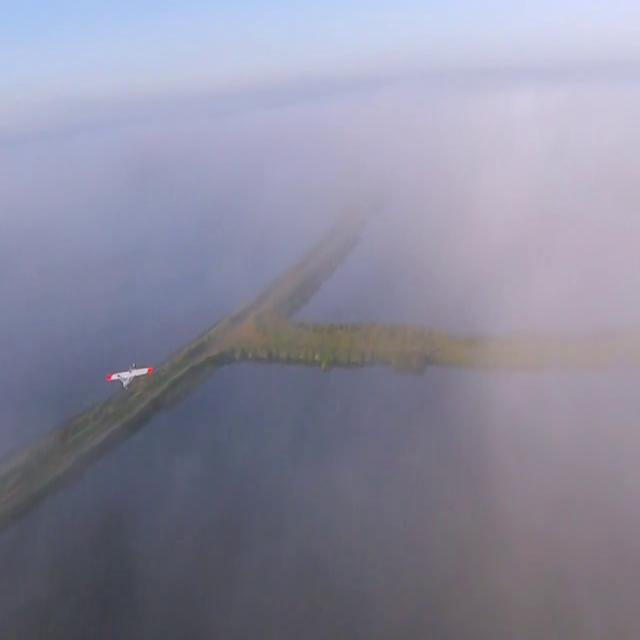iha: (108, 363, 152, 393)
